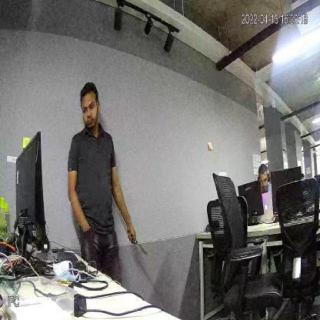knife: (129, 231, 147, 257)
